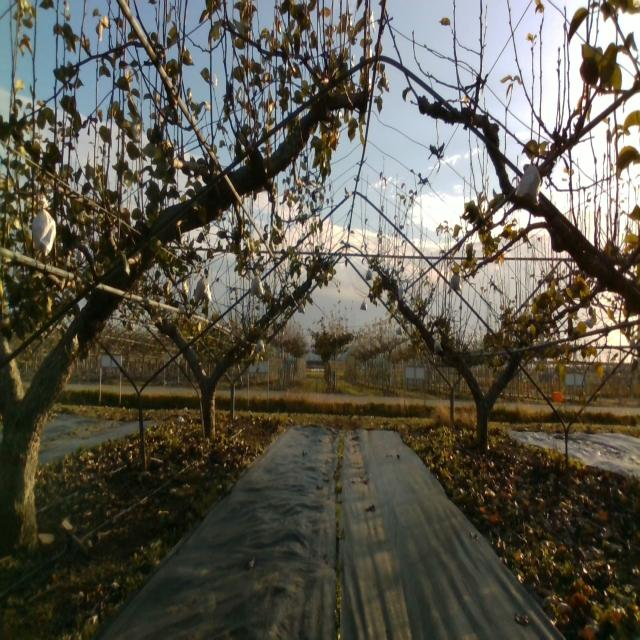pearbags: (32, 193, 58, 254), (514, 156, 542, 205), (196, 275, 212, 302), (250, 272, 264, 298), (448, 273, 461, 293)
